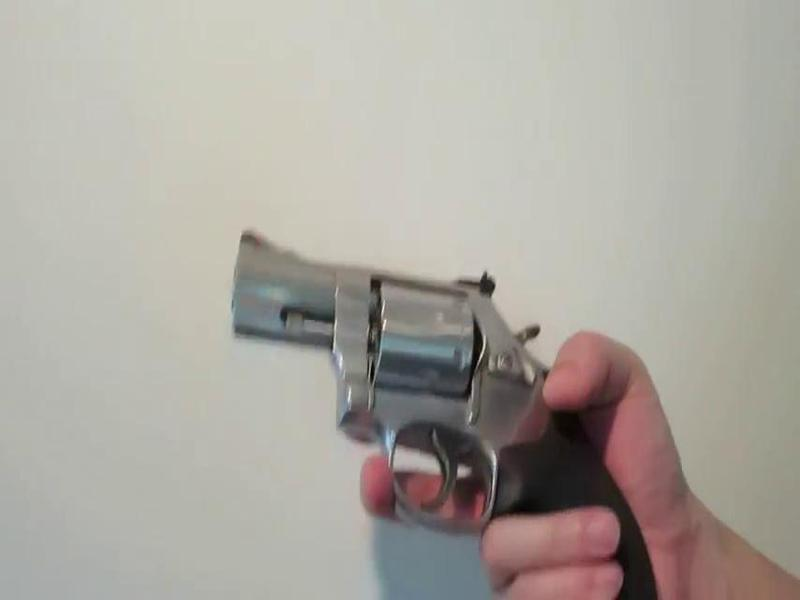Revolver: (217, 218, 665, 600)
